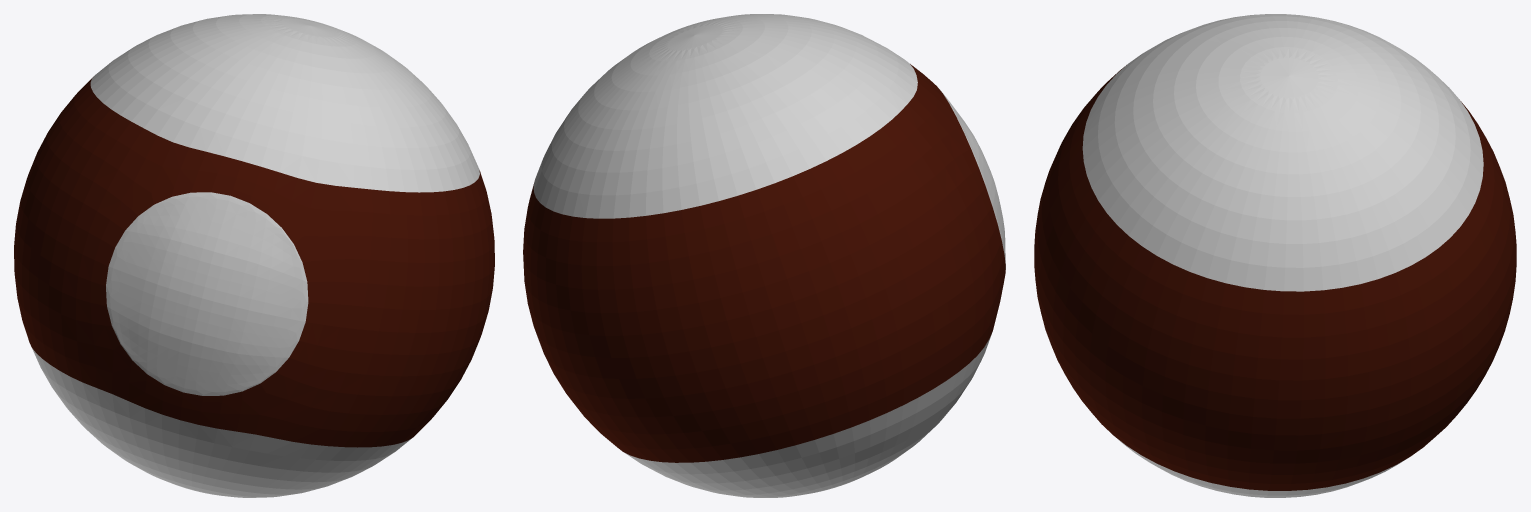
File: 15_ball.obj
The picture shows the model from 3 angles, left to right: view 1: azimuth 30°, elevation 25°; view 2: azimuth 150°, elevation 25°; view 3: azimuth 270°, elevation 25°; orthographic projection.
Parts seen in each view (by area): view 1: Stripe.001; view 2: Stripe.001; view 3: Stripe.001.
Boxes of the visible parts, bbox=[...] form: Stripe.001: bbox=[14, 14, 494, 497]; Stripe.001: bbox=[523, 14, 1005, 497]; Stripe.001: bbox=[1034, 14, 1516, 497].
Bounding box in the file's own units: 0.0786 × 0.079 × 0.0785.
